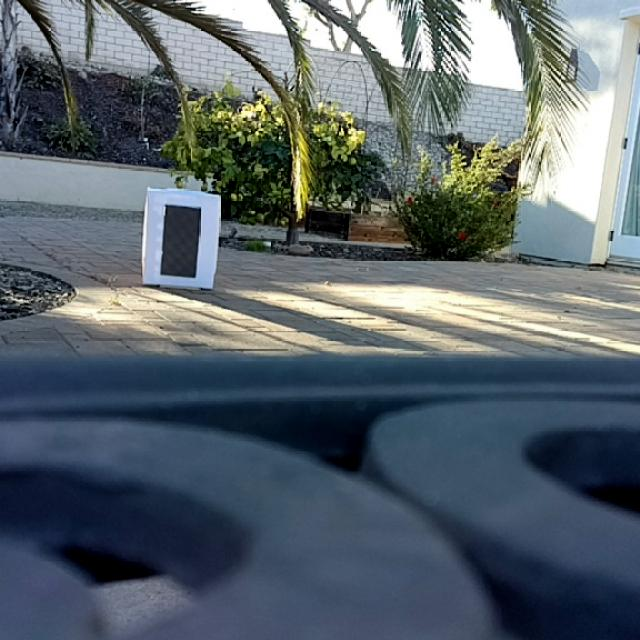led: (163, 206, 200, 280)
